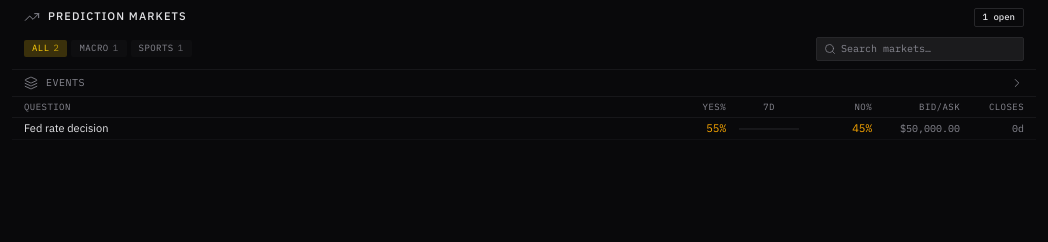
Test: PredictionMarketsPage › shows 'no markets match' empty state when filters eliminate all results
Expected: the text "Fed rate decision" is shown, [24,121,108,136]
In the field with placeholder "Search markets…": (920, 49) [816,37,1024,61], type "xyzzy-no-match"
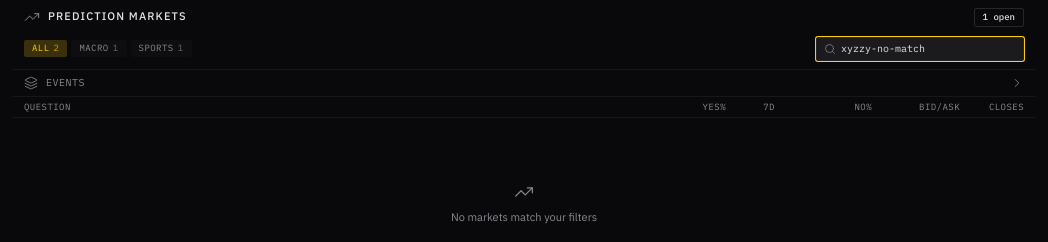
Expected: the text "No markets match your filters" is shown, [451,210,597,226]
